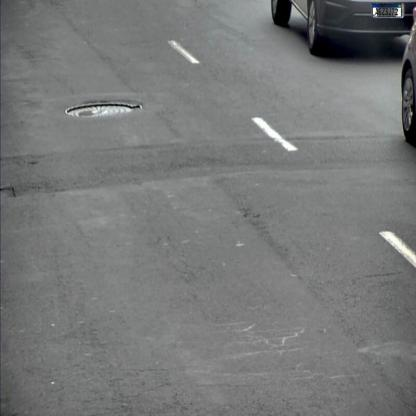PlacaM: (372, 4, 402, 18)
